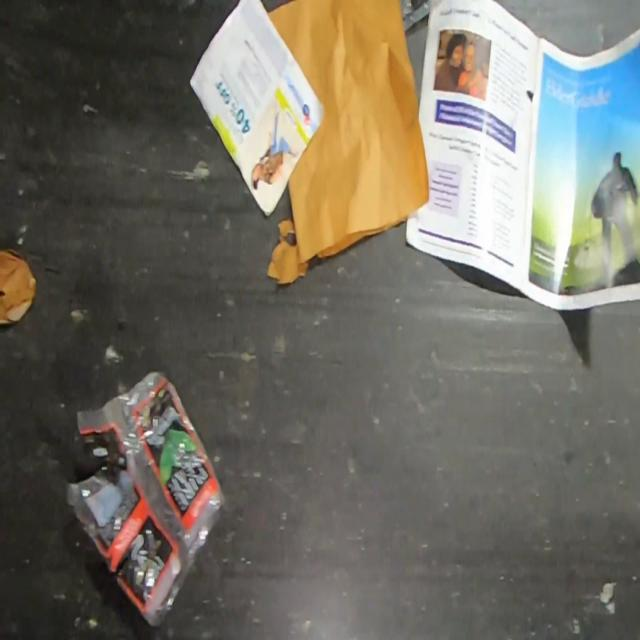soft_plastic: (64, 366, 230, 634)
